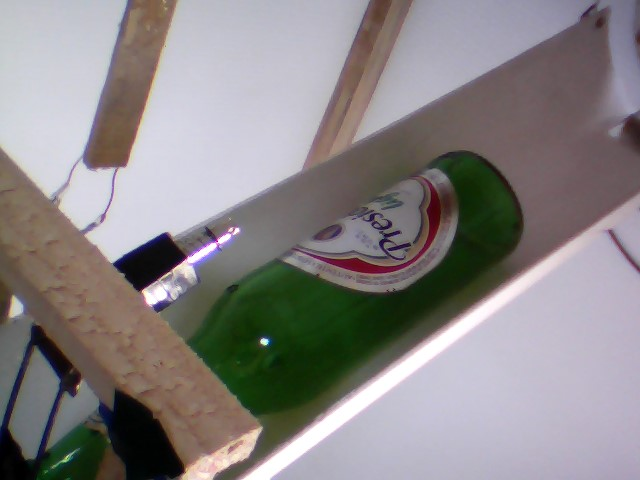vidrio: (178, 145, 539, 414)
